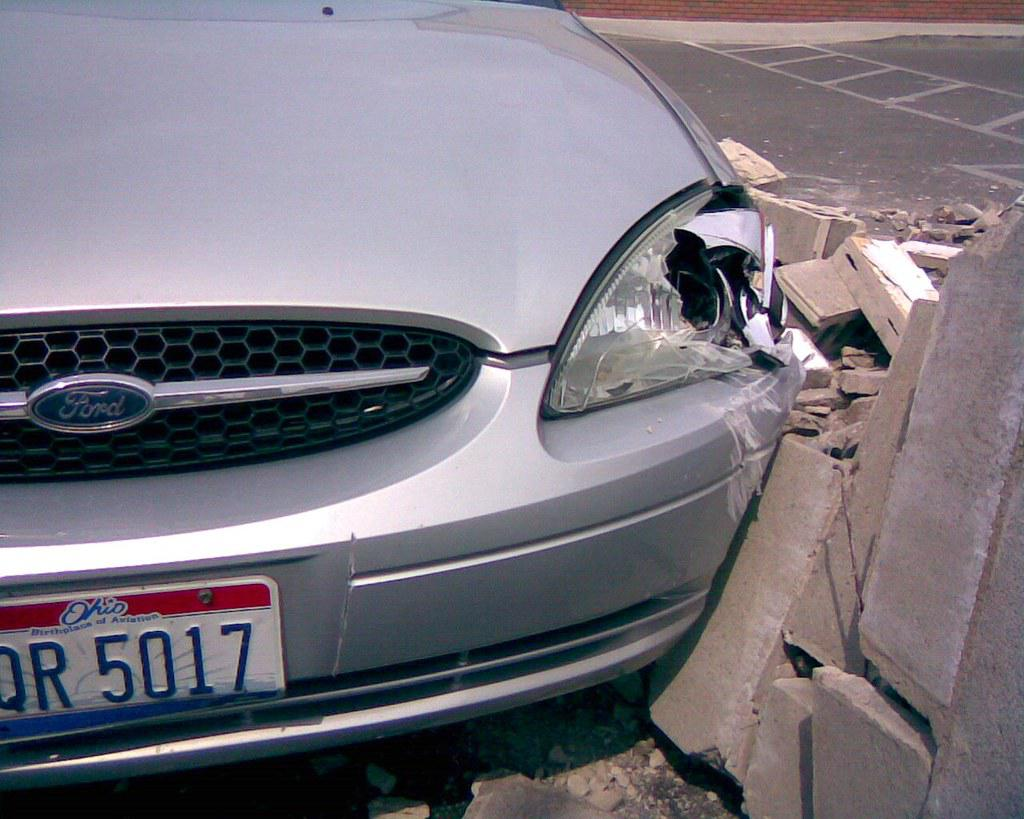Headlight-Damage: (413, 133, 824, 478)
